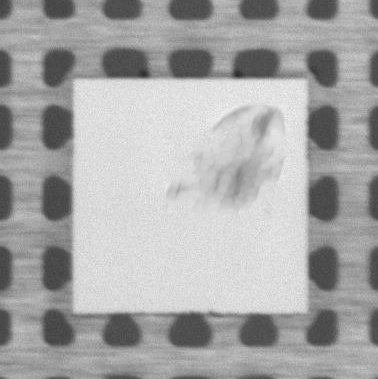DIE_INK: (161, 100, 288, 219)
